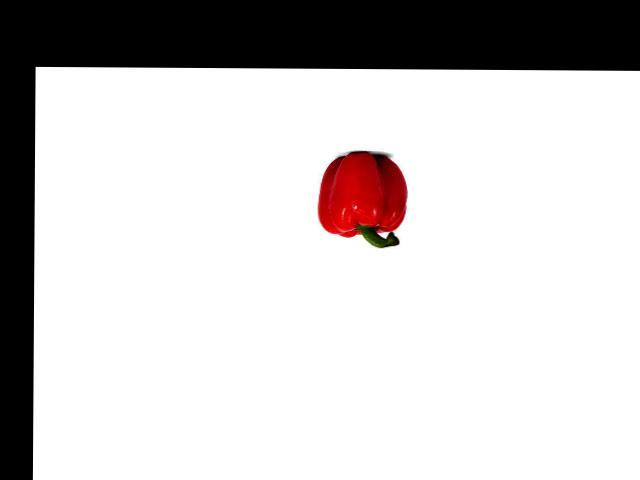bell_pepper: (312, 152, 409, 249)
